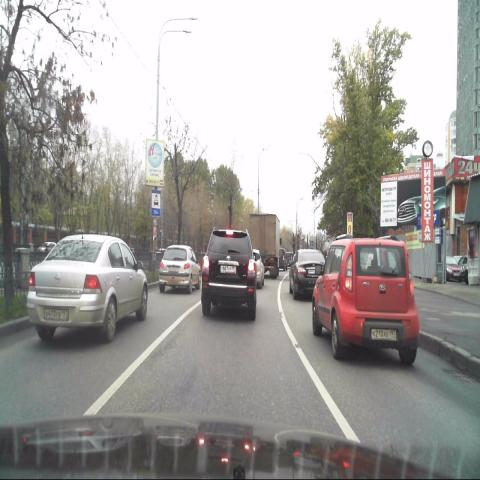7_5: (151, 189, 161, 216)
